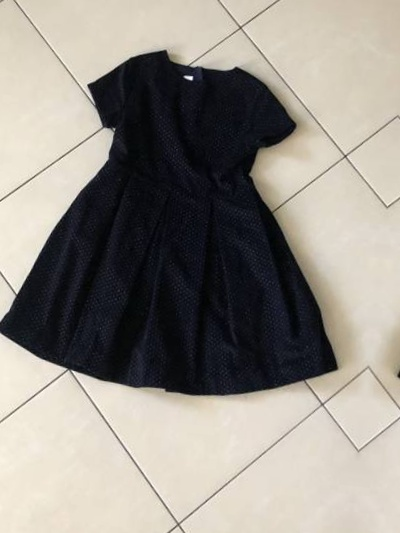Dress: (0, 8, 367, 432), (400, 56, 400, 480)
